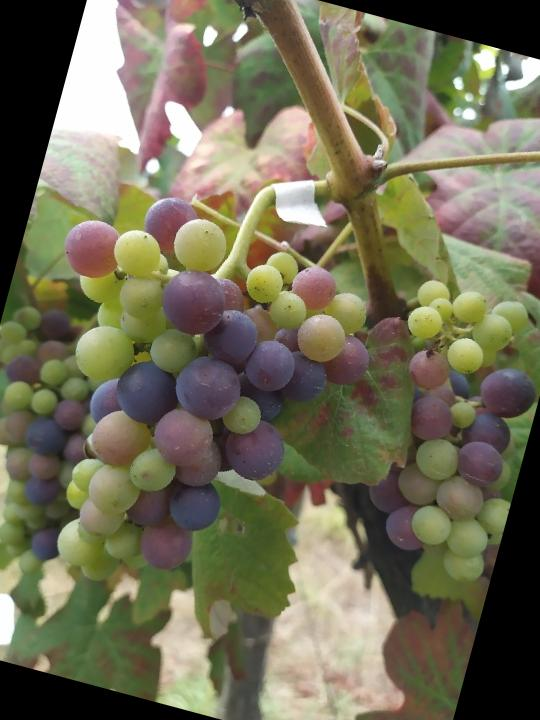grape: (0, 167, 402, 639), (344, 272, 540, 591)
